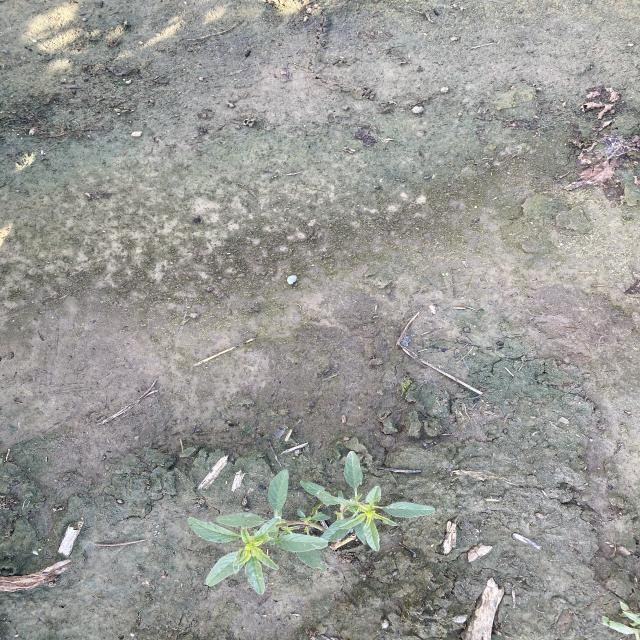Waterhemp: (186, 450, 438, 596)
